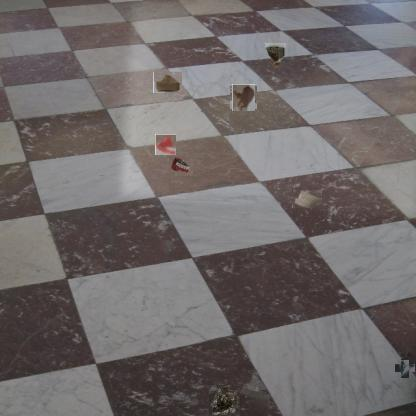dirty: (208, 385, 240, 415), (262, 41, 288, 69), (153, 71, 182, 93), (292, 188, 322, 208), (169, 156, 193, 176), (398, 361, 413, 375)
liquid: (231, 85, 256, 110), (155, 134, 176, 155)
